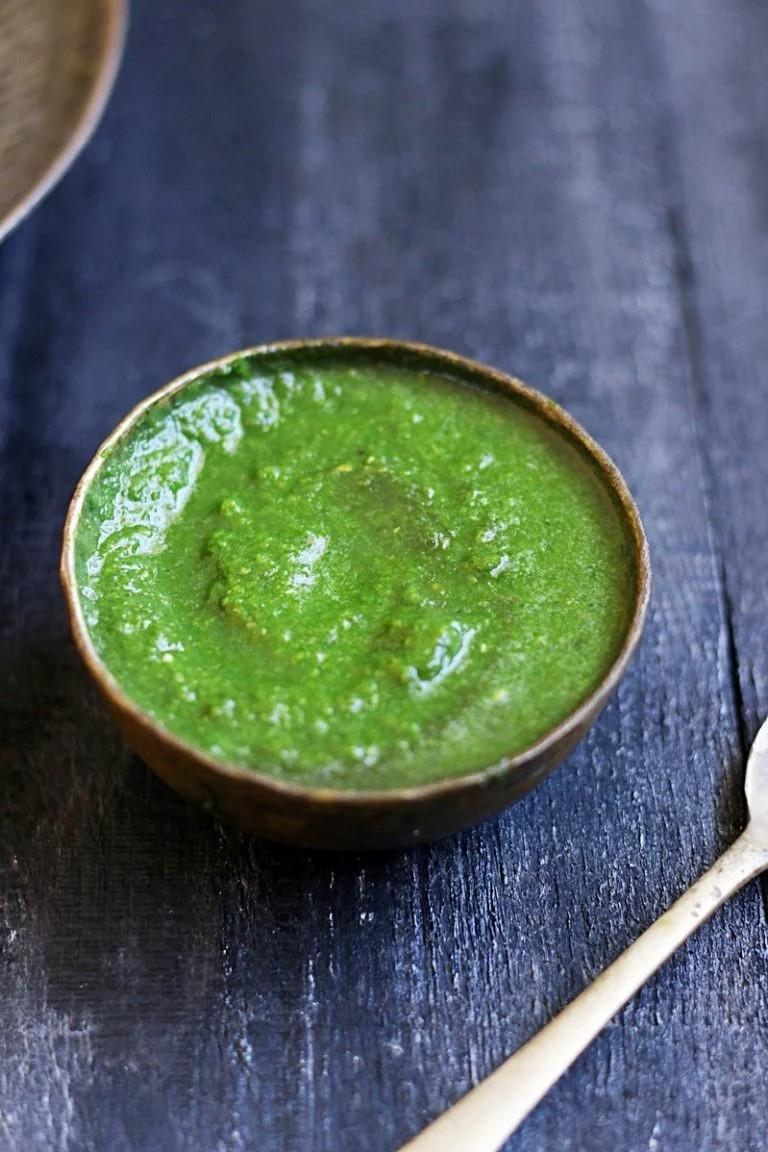GreenChutney: (78, 362, 631, 788)
